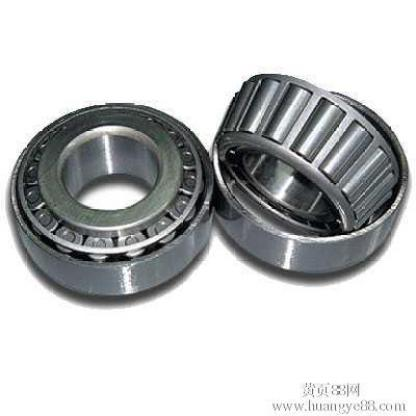FOD: (3, 96, 217, 308)
